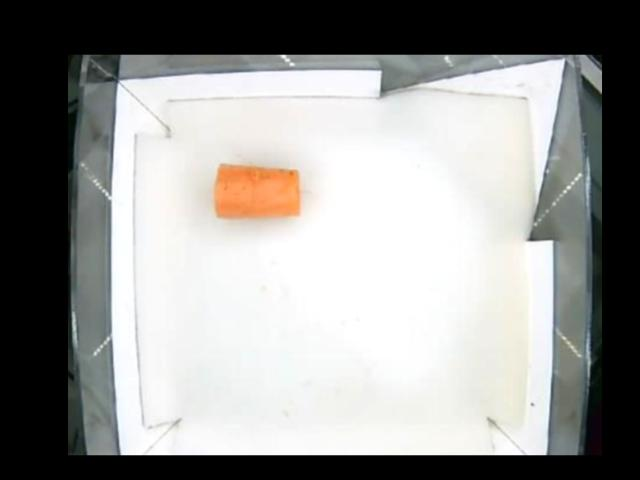Carrot: (213, 162, 301, 219)
